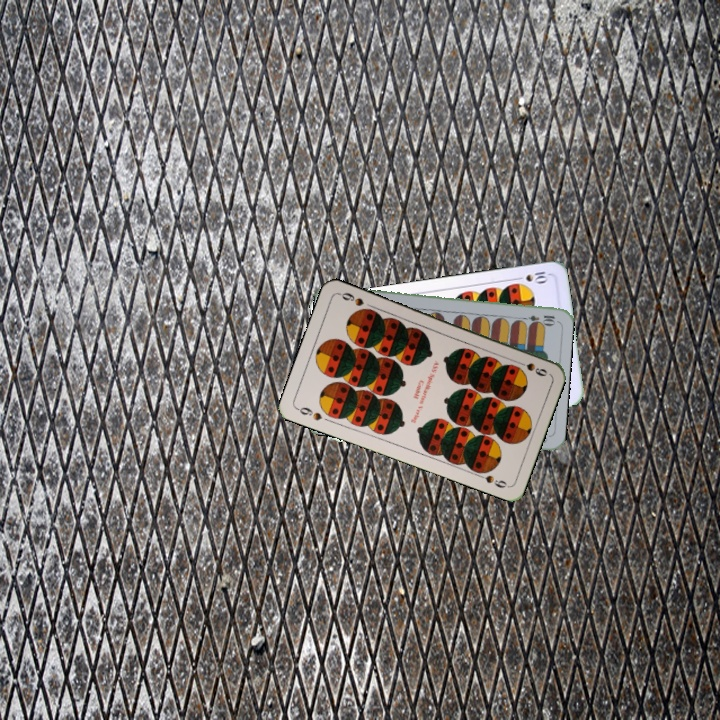E10: (517, 311, 558, 325)
S10: (511, 267, 550, 288)
S9: (511, 357, 550, 379), (293, 403, 325, 423)
